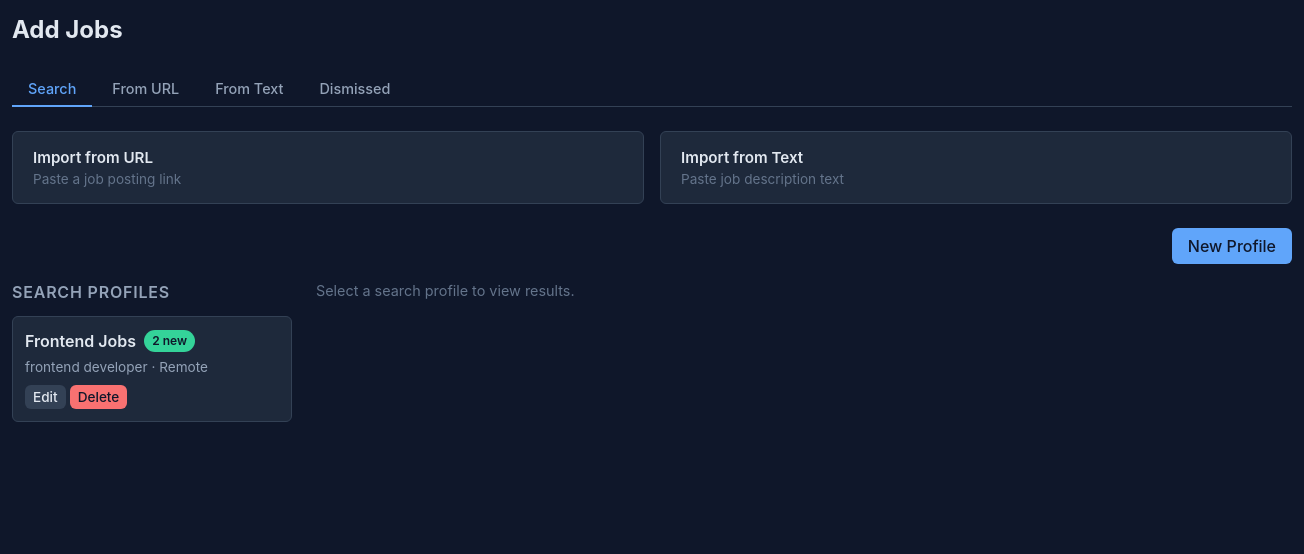
Test case: Search Page — results header with count and timestamp › shows delta summary after running a search
This screenshot has width=1304, height=554.
Expected: the text "Frontend Jobs" is shown, [25,331,136,351]
Step 1. Click the text "Frontend Jobs" → (110, 341), box [25,330,195,352]
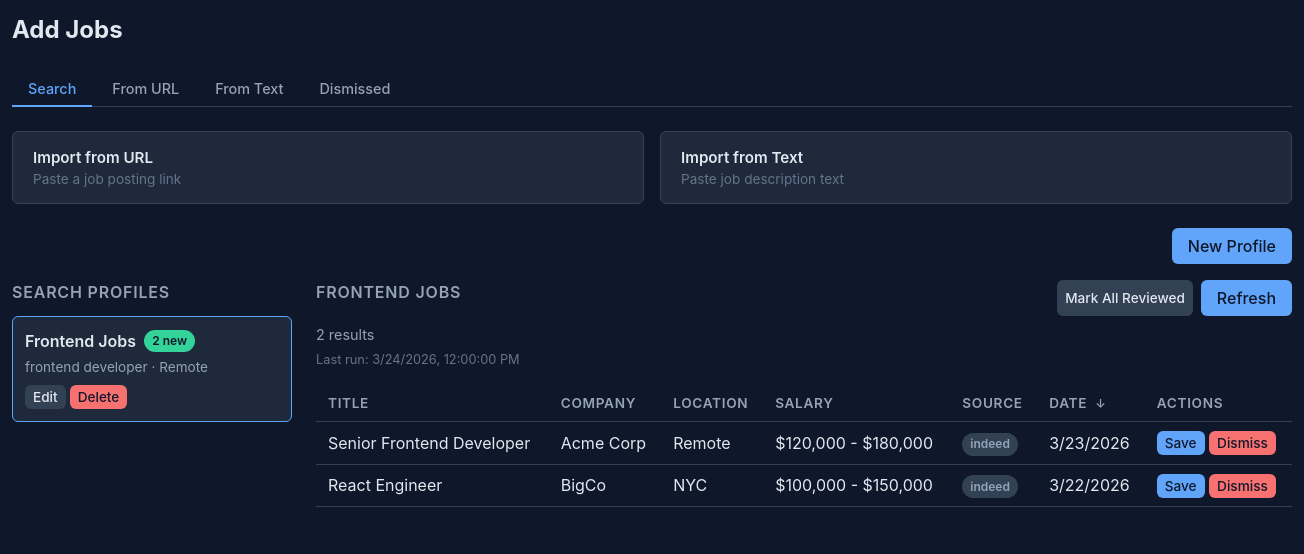
Now the text "Senior Frontend Developer" is shown, box [316,422,549,464]
Step 2. Click the button "Refresh" → (1246, 298), box [1201,280,1292,316]
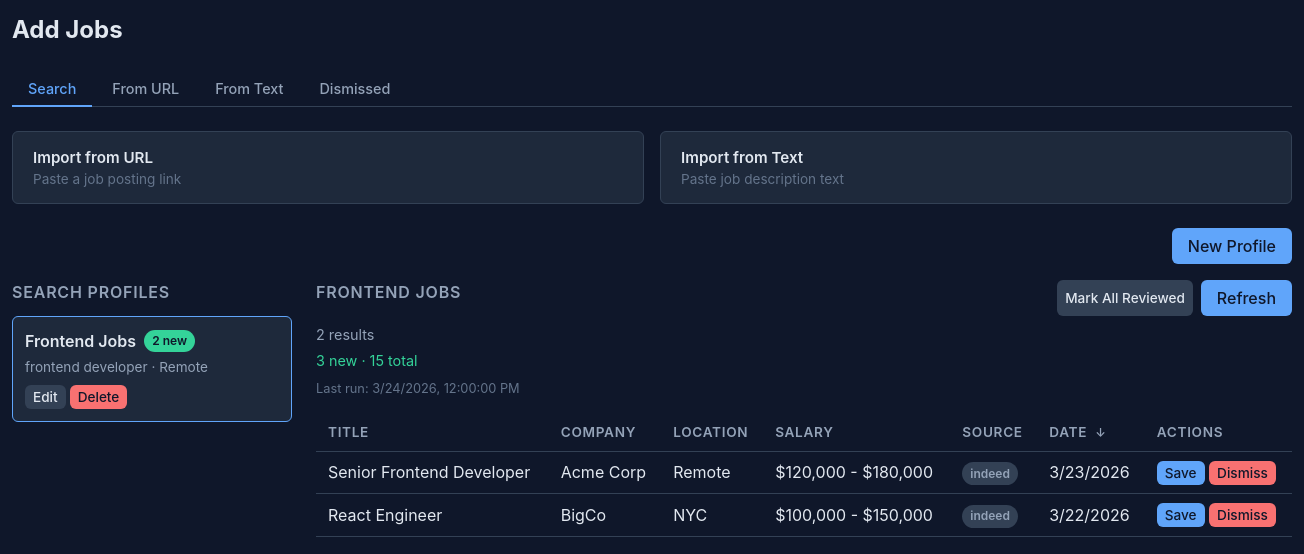
Now the text "3 new · 15 total" is shown, box [316,352,418,369]
